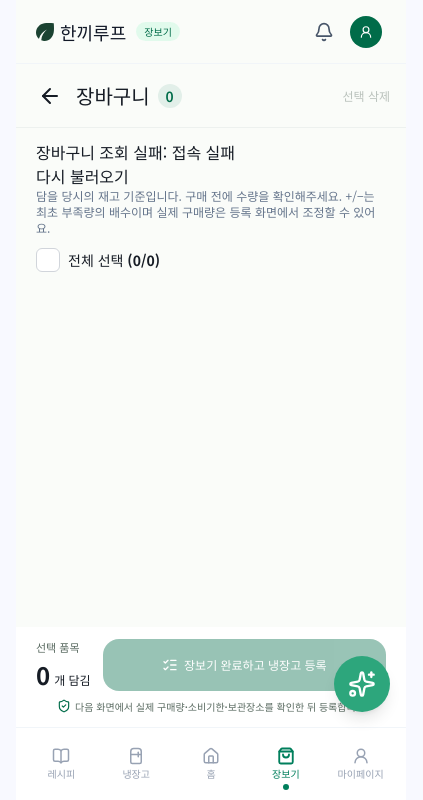
it: allows retry after a shopping lookup failure
Check: the text "장바구니 조회 실패: 접속 실패" is shown, box [36,140,235,164]
Click the button "다시 불러오기": coordinates (82, 176) [36,164,129,188]
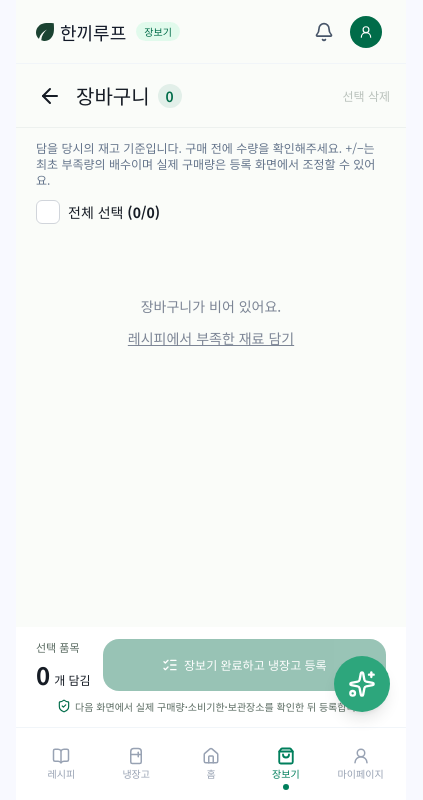
Check: the text "장바구니가 비어 있어요." is shown, box [141,296,281,316]
